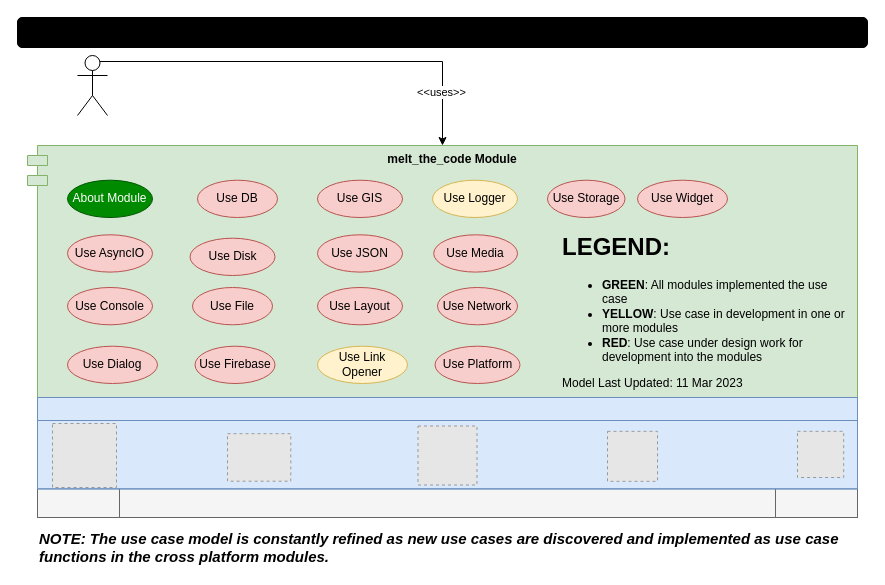
The diagram is 885 pixels wide and 585 high, and some of its shapes have lost their labels. Grey dashed boxes stand in for pictures. Each missing label, with the box of its shape:
Operating System: (36, 486, 858, 518)
Software Application: (76, 54, 108, 116)
Software Developer Kit / Language: (36, 396, 858, 489)
Use Case Model: (16, 16, 868, 48)
